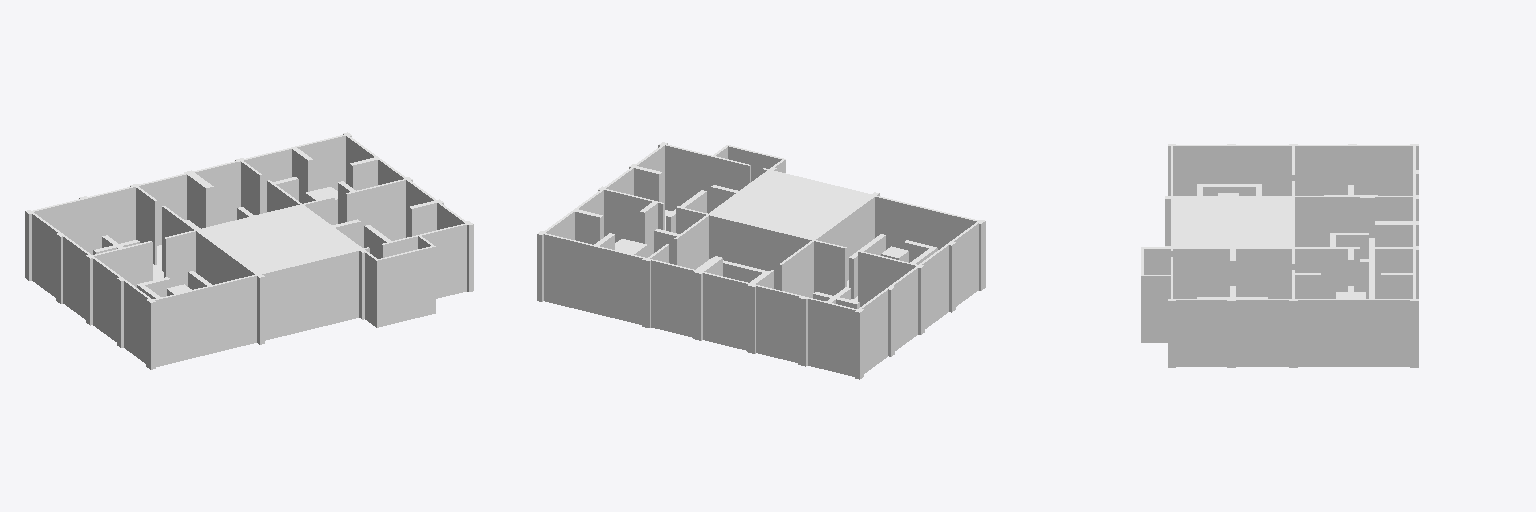
The model's file is fase3.obj.
3 views of the same model, side by side, from view 1: azimuth 30°, elevation 25°; view 2: azimuth 150°, elevation 25°; view 3: azimuth 270°, elevation 25° (orthographic).
Bounding box in the file's own units: 126 × 25 × 94.